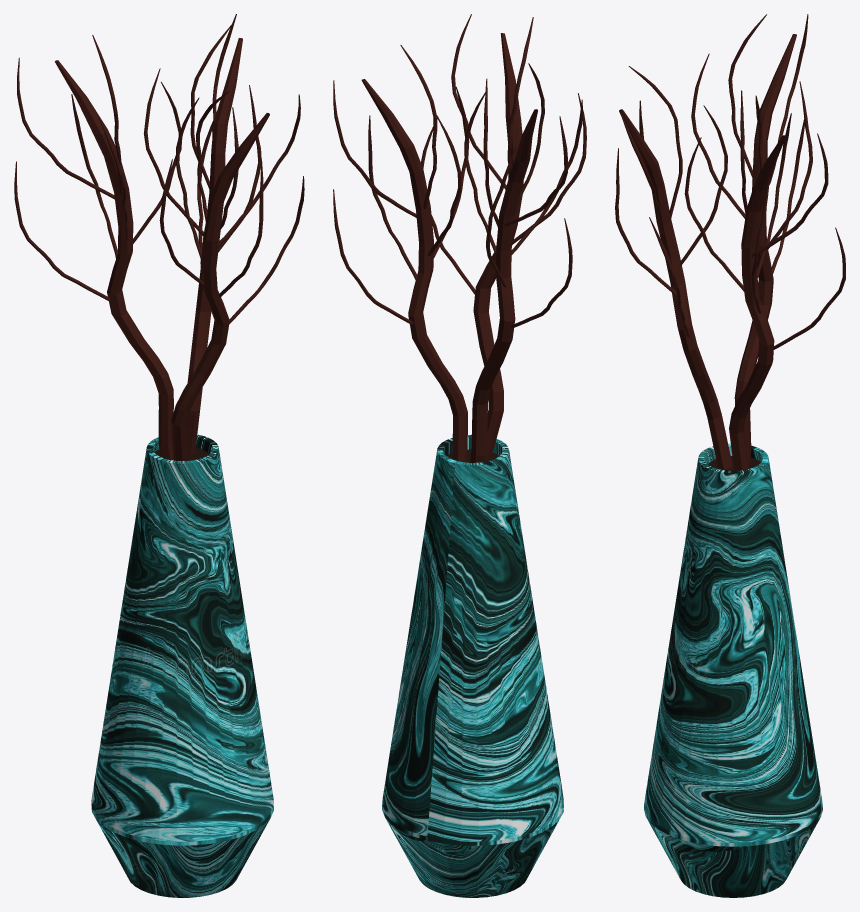
The model's file is vase3.glb.
The picture shows the model from 3 angles, left to right: view 1: azimuth 30°, elevation 25°; view 2: azimuth 150°, elevation 25°; view 3: azimuth 270°, elevation 25°; orthographic projection. The views are drawn at different scales.
Parts seen in each view (by area): view 1: Cylinder, Circle.001, Circle.002, Circle; view 2: Cylinder, Circle, Circle.001, Circle.002; view 3: Cylinder, Circle, Circle.002, Circle.001.
Part boxes in pixels (left/top/right/bottom): Cylinder: left=91, top=434, right=273, bottom=897; Circle.001: left=14, top=35, right=182, bottom=460; Circle.002: left=159, top=91, right=304, bottom=460; Circle: left=143, top=14, right=261, bottom=456; Cylinder: left=382, top=435, right=563, bottom=897; Circle: left=333, top=45, right=469, bottom=462; Circle.001: left=464, top=63, right=582, bottom=462; Circle.002: left=421, top=14, right=586, bottom=461; Cylinder: left=644, top=443, right=822, bottom=897; Circle: left=684, top=95, right=845, bottom=470; Circle.002: left=615, top=66, right=732, bottom=469; Circle.001: left=691, top=14, right=812, bottom=465.
Bounding box in the file's own units: 2.91 × 10.18 × 2.58.
3 materials, 1 textured.
